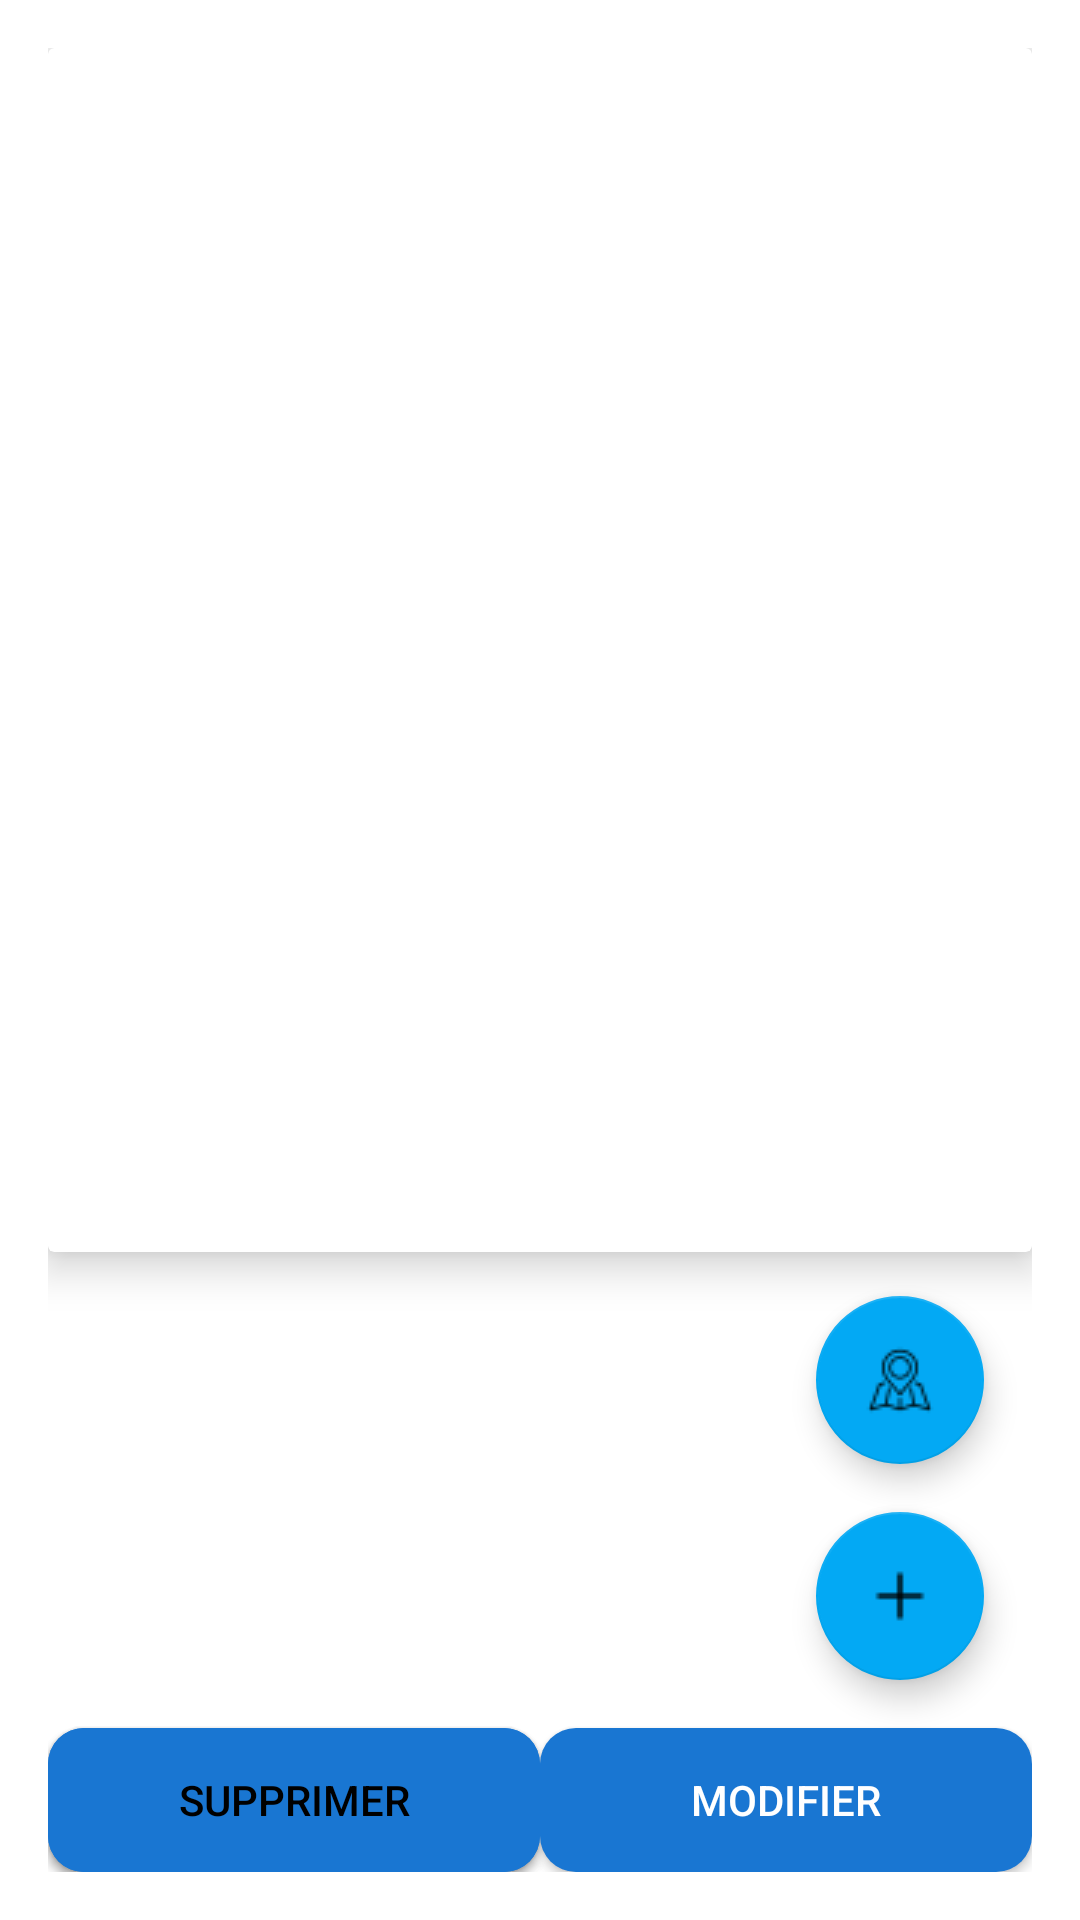

Where to tap for icons on this 1080 x 1920 app screen, as (x,y):
Ajouter un PM: (900,1596)
Itinéraire: (900,1380)
